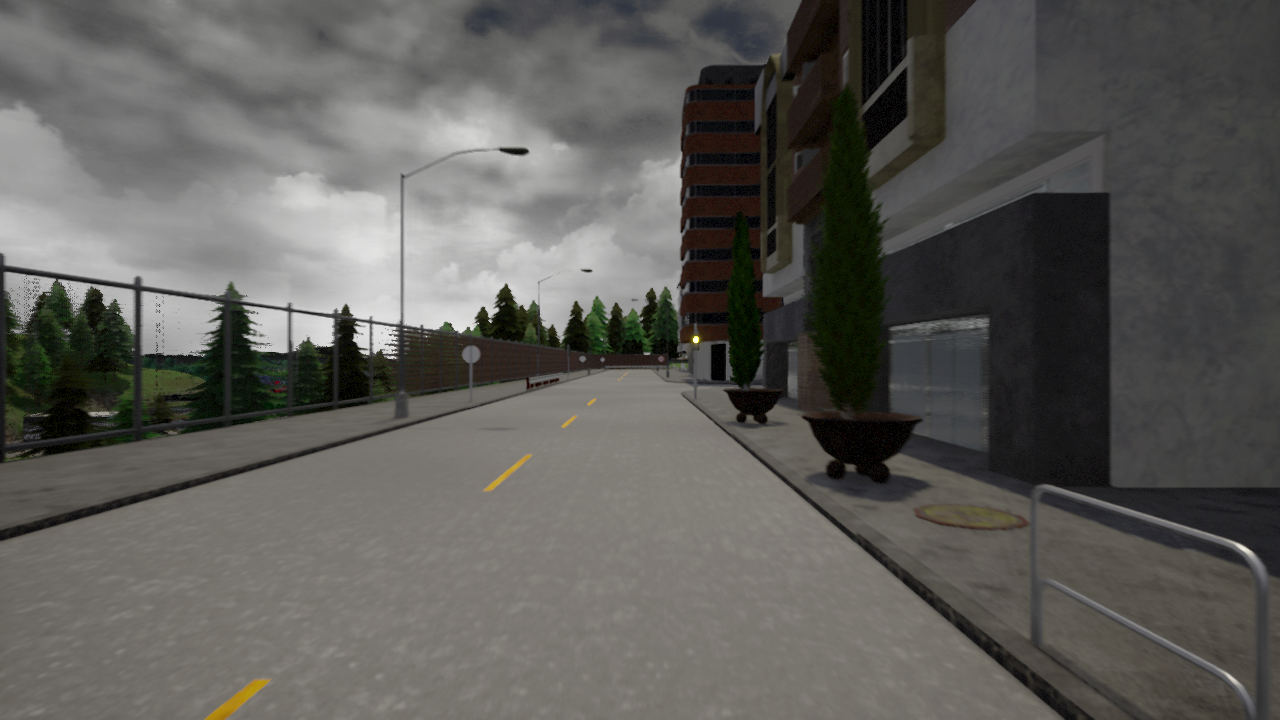yellow: (691, 325, 702, 350)
